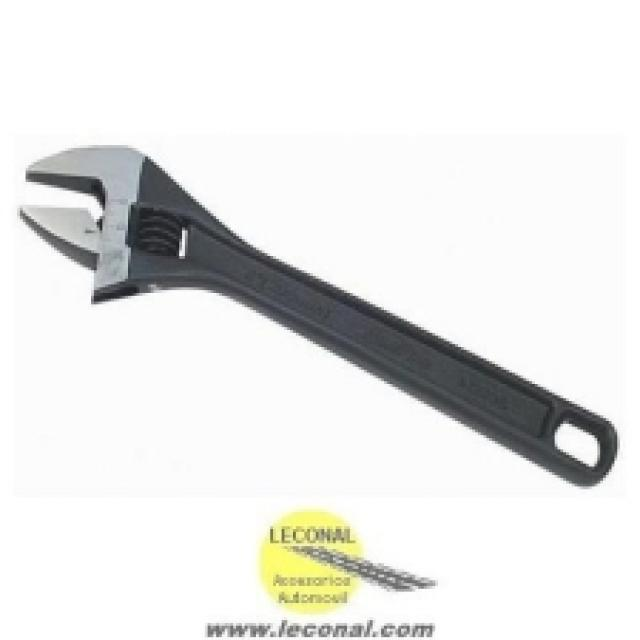wrench: (11, 134, 627, 498)
